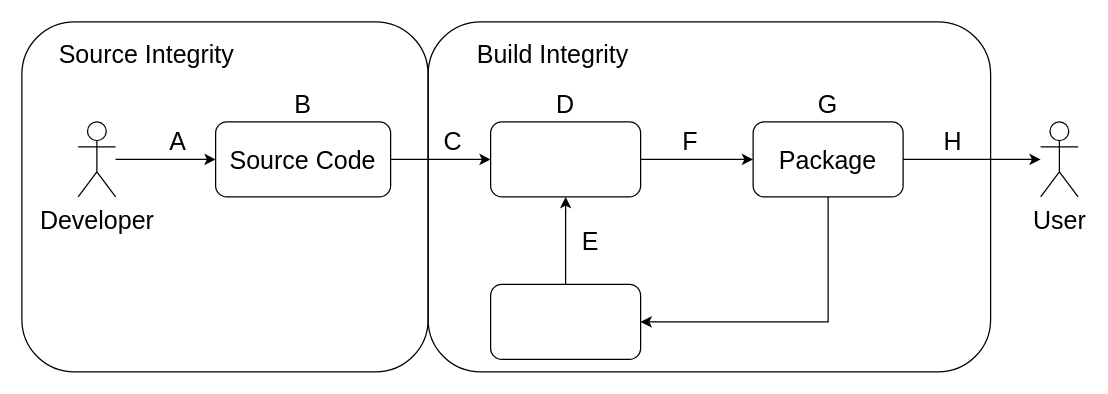
Image size: 1108x394. Some labels were removed from this diagram. The box of each missing label's shape, as (x1, y1, x2, y2) in pixels:
Build: (489, 121, 641, 197)
Dependency: (489, 283, 641, 359)
